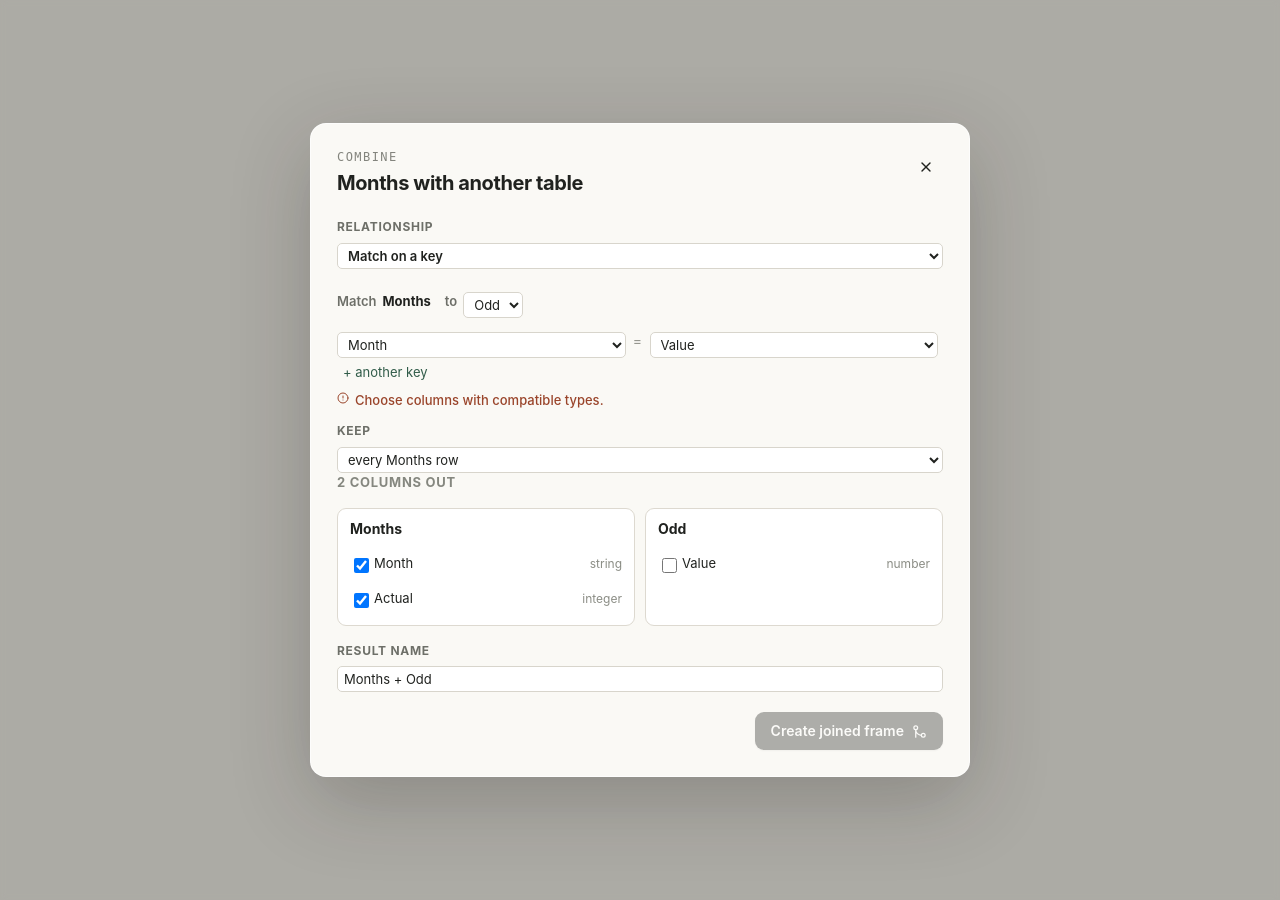
Test case: combine relationships › names the repeat refusal with both counts when the tiling is uneven
Select "Same rows in order" in the dropdown labelled "Relationship" at (640, 256), box [337,242,943,268]
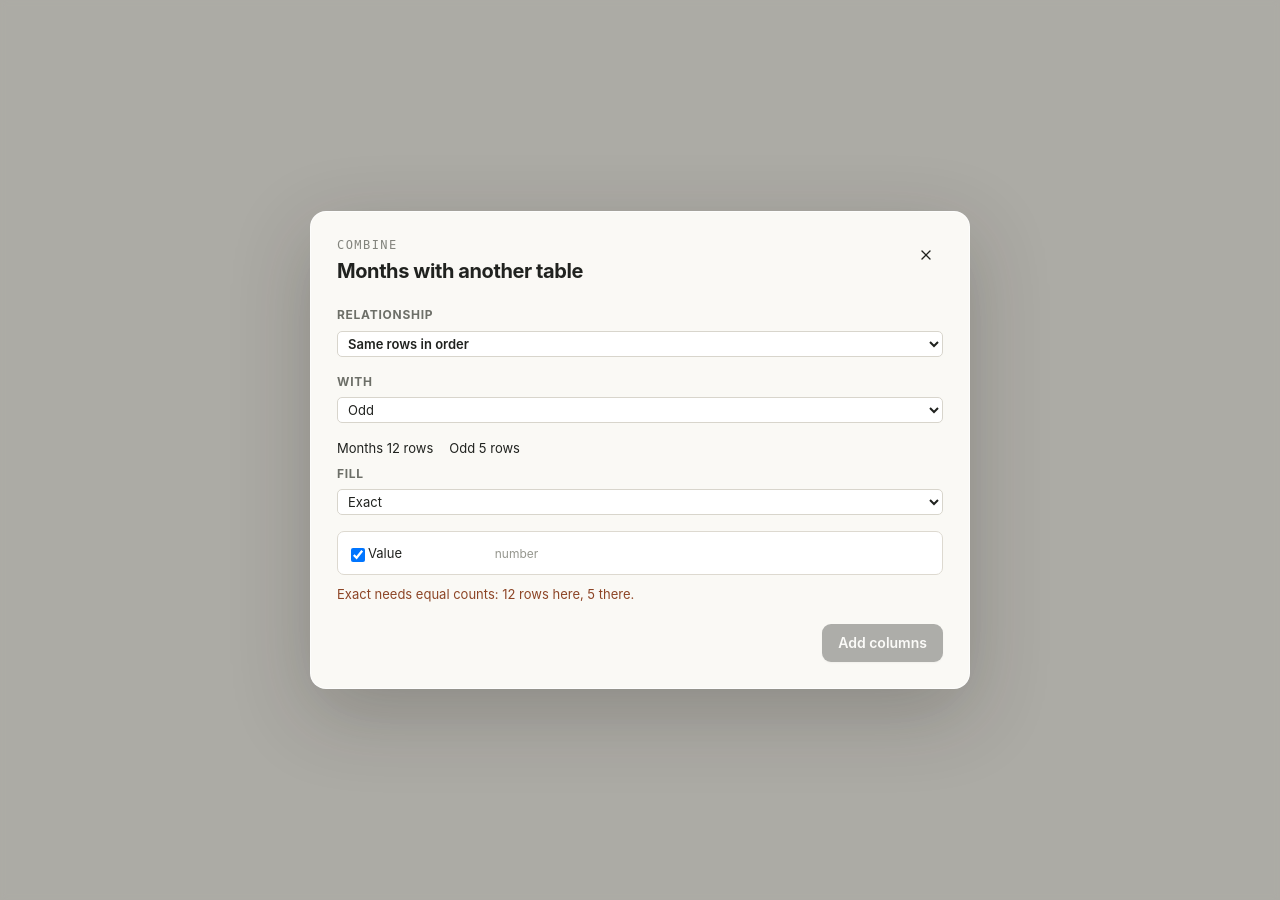
Select "Repeat to fill" in the dropdown labelled "Fill" at (640, 502), box [337,489,943,515]
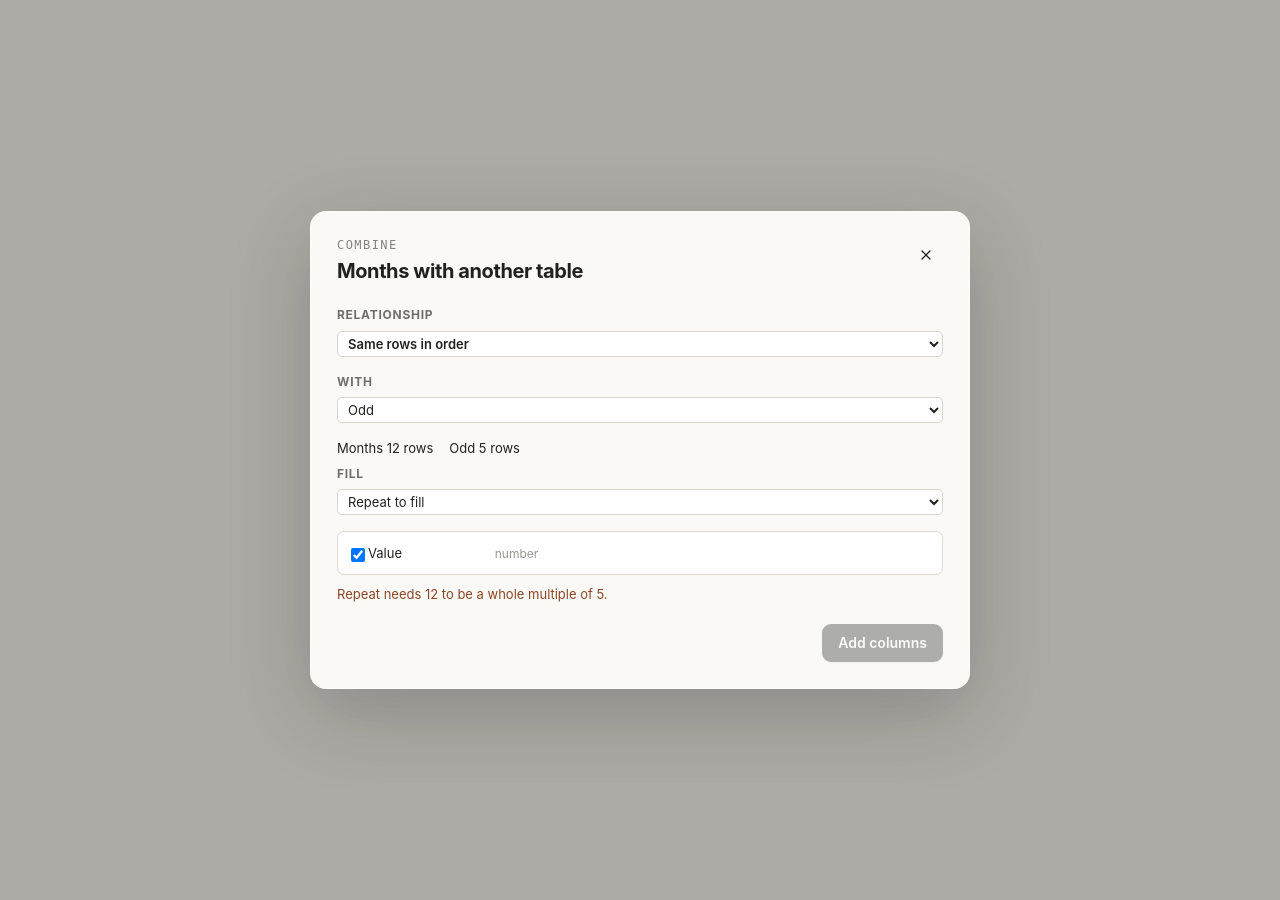
Check: the text "Repeat needs 12 to be a whole multiple of 5." is shown, box [337,586,608,602]
